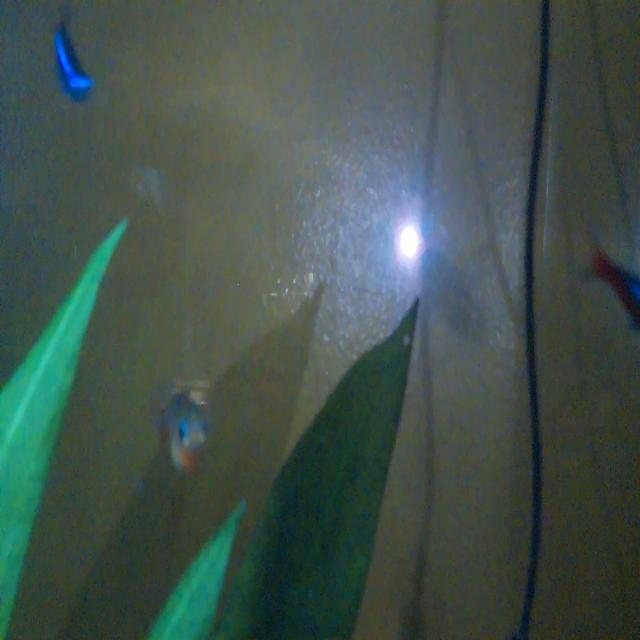fish: (133, 382, 216, 486)
